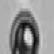correct: (9, 7, 42, 51)
